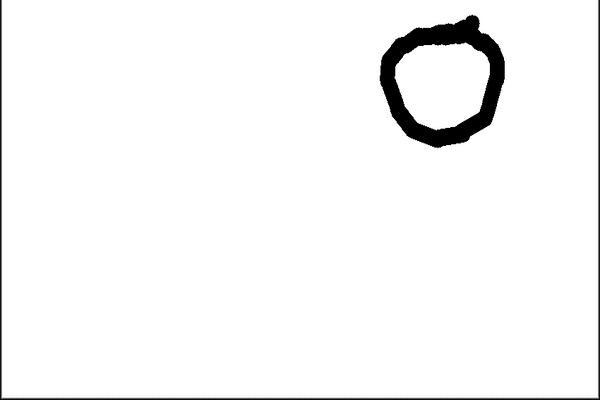O: (372, 11, 517, 157)
